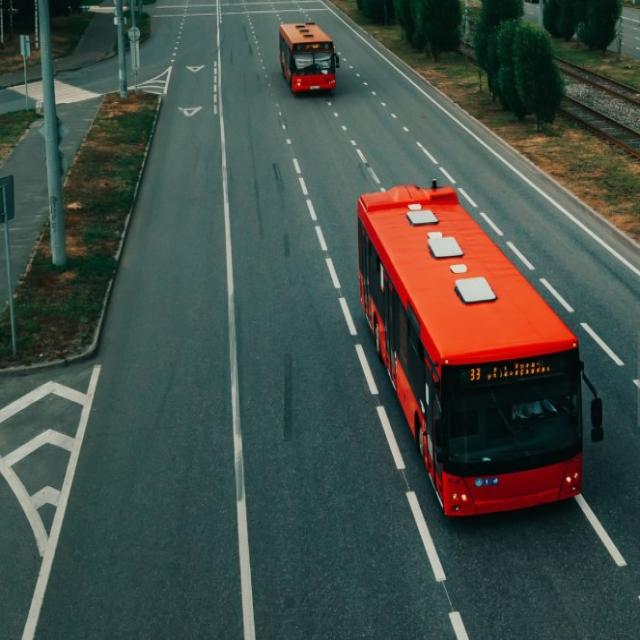bus: (356, 178, 606, 518), (278, 22, 339, 92)
